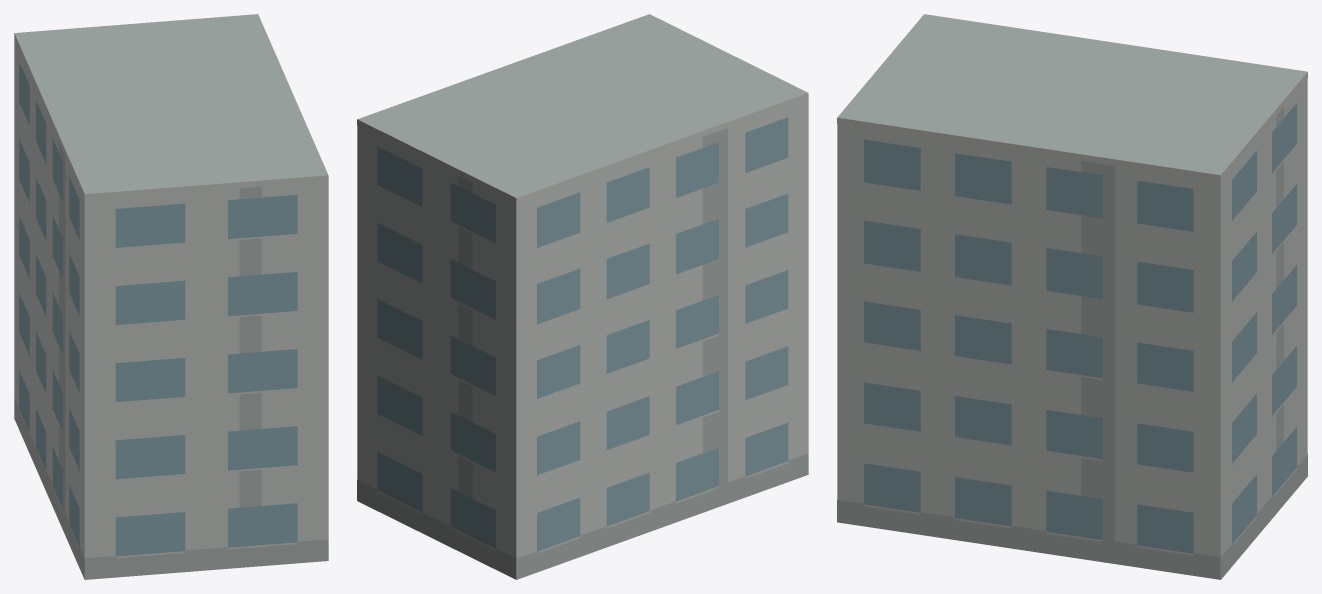
File: residential-a5cb4648-983a-486b-b44d-f4d5031b21ae.glb
3 views of the same model, side by side, from view 1: azimuth 30°, elevation 25°; view 2: azimuth 150°, elevation 25°; view 3: azimuth 270°, elevation 25° (orthographic). The views are drawn at different scales.
Parts seen in each view (by area): view 1: residential-a5cb4648-983a-486b-b44d-f4d5031b21ae.tmp; view 2: residential-a5cb4648-983a-486b-b44d-f4d5031b21ae.tmp; view 3: residential-a5cb4648-983a-486b-b44d-f4d5031b21ae.tmp.
Part boxes in pixels (x1,y1,x2,y2): residential-a5cb4648-983a-486b-b44d-f4d5031b21ae.tmp: (14, 14, 328, 579); residential-a5cb4648-983a-486b-b44d-f4d5031b21ae.tmp: (357, 14, 808, 579); residential-a5cb4648-983a-486b-b44d-f4d5031b21ae.tmp: (837, 14, 1307, 579).
Size of the model in its own units: 13.04 by 15.25 by 16.09.
